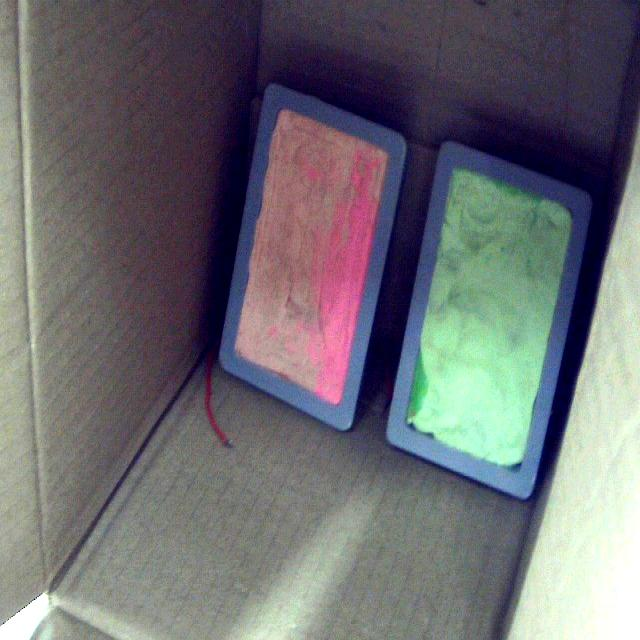block: (382, 145, 589, 502), (218, 85, 408, 436)
